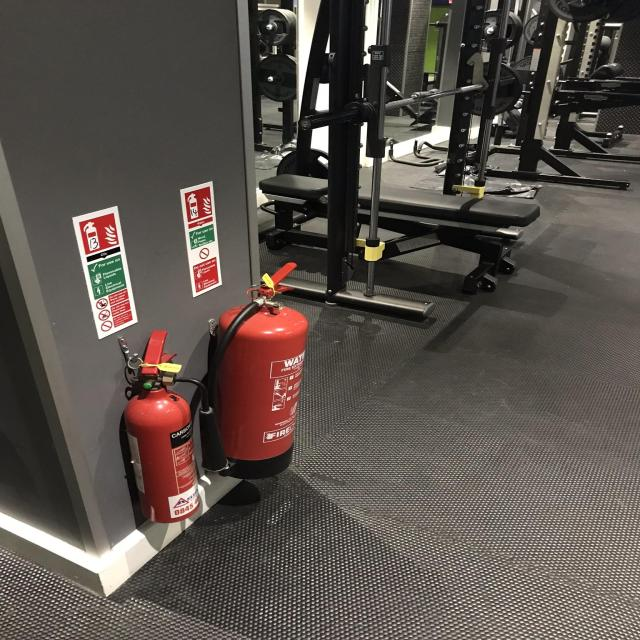fire_extinguisher: (200, 257, 314, 481), (114, 325, 238, 526)
